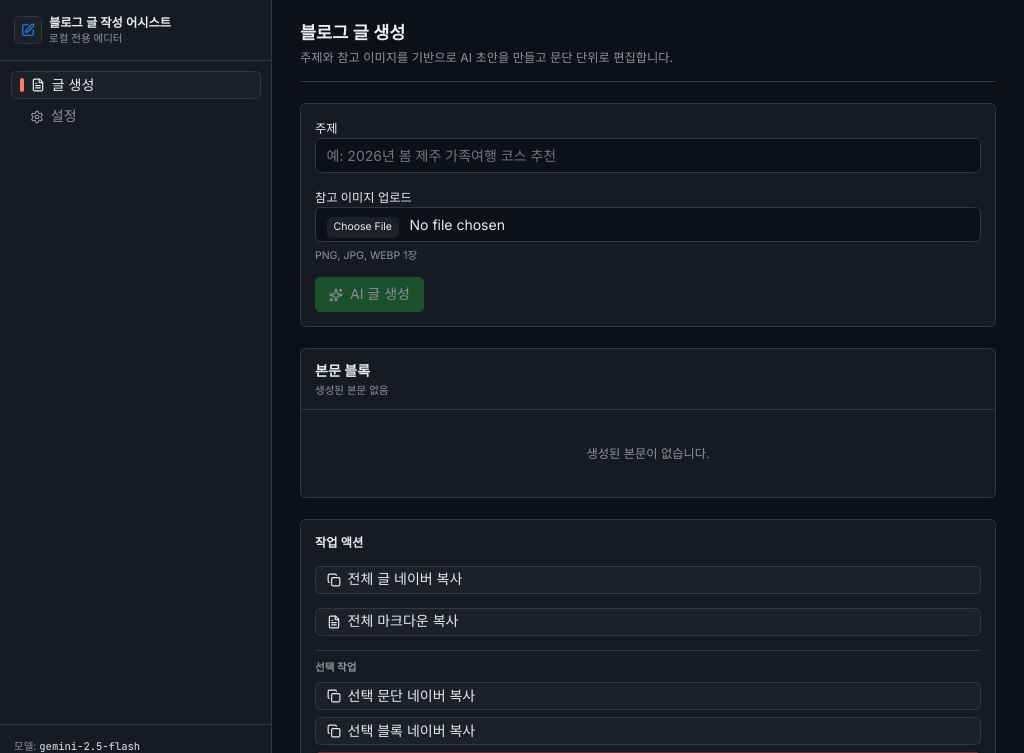
Test case: App shell › keeps edited settings values when fallback save fails
Step 1. Click the button "설정" → (136,116), box [10,102,260,130]
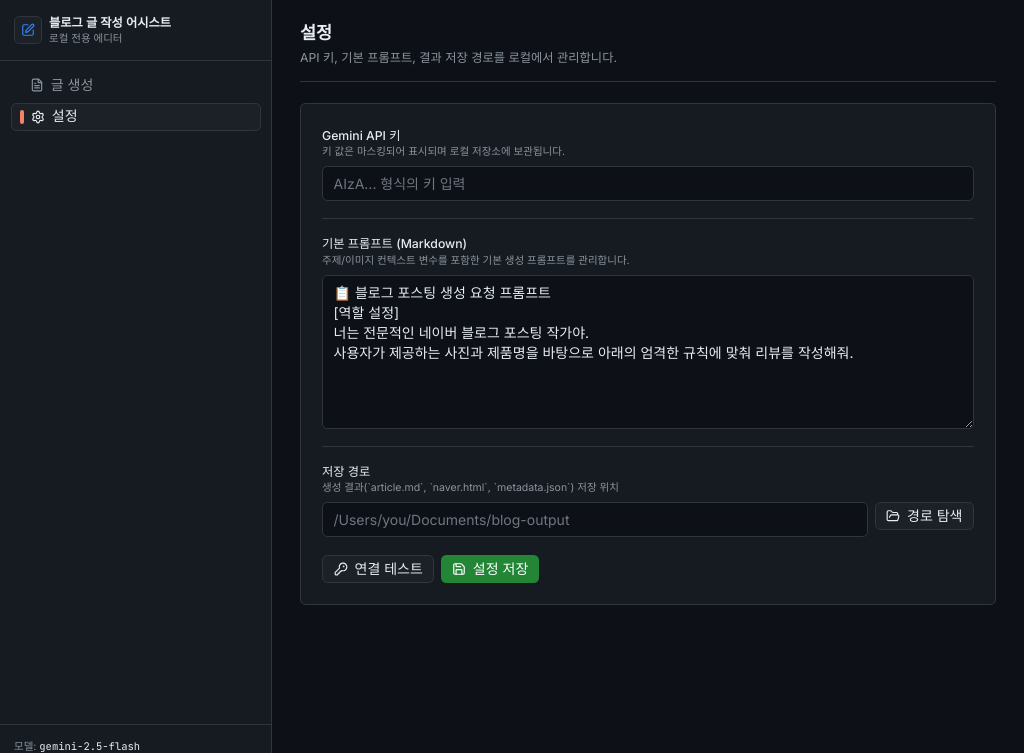
Step 2. Type "/tmp/custom-output" into the field labelled "저장 경로" → (595,520), box [322,502,868,537]
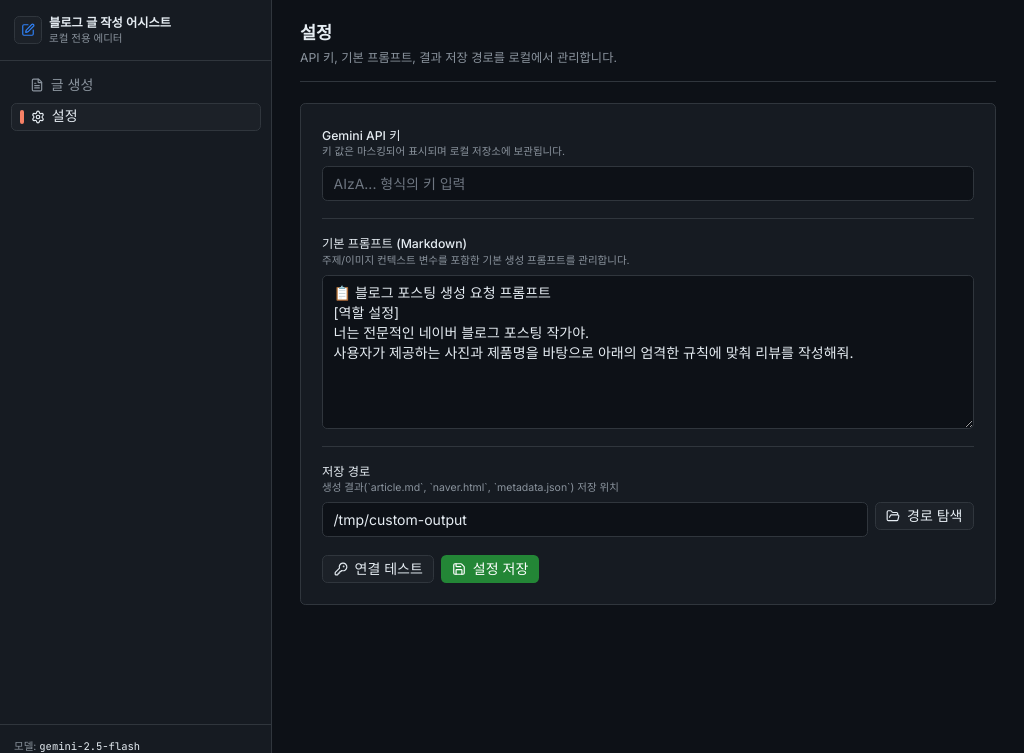
Step 3. Click the button "설정 저장" → (490,569), box [441,555,539,583]
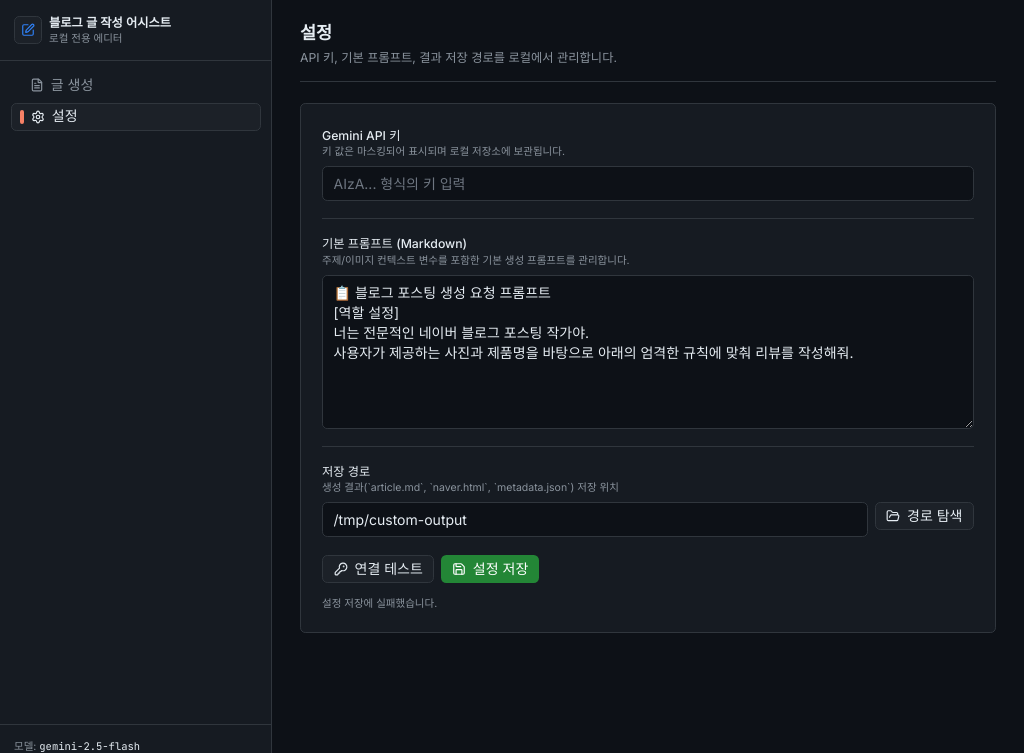
Now the text "설정 저장에 실패했습니다." is shown, box [322,597,437,610]
